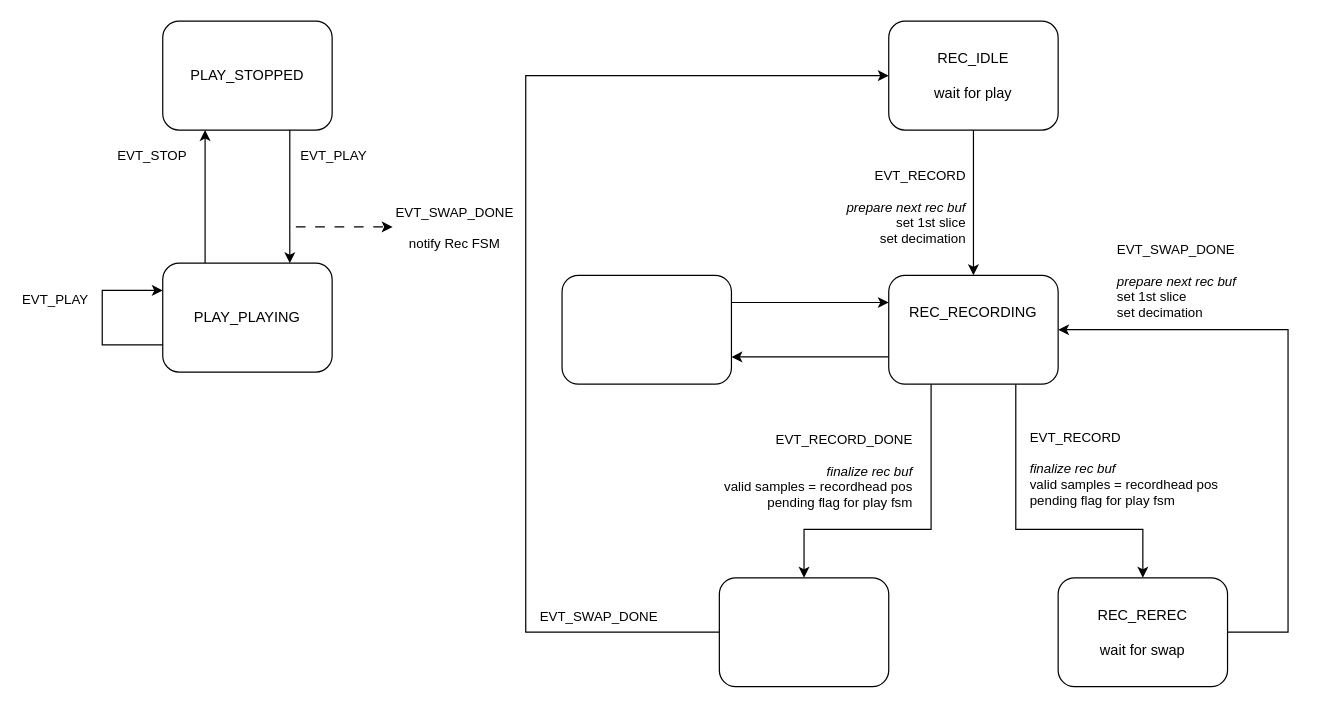
Some shapes in this 1319 by 708 pixel diagram are drawn without their labels. Each missing label, with the box of its shape:
REC_ADD_SLICE add slice to rec_buf at current rechead: (561, 274, 731, 384)
REC_DONE wait for swap: (718, 577, 889, 687)
